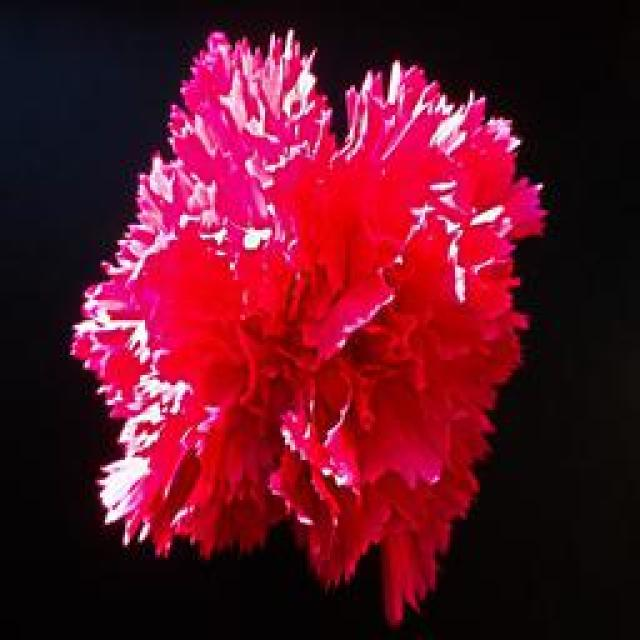carnation: (52, 16, 608, 606)
